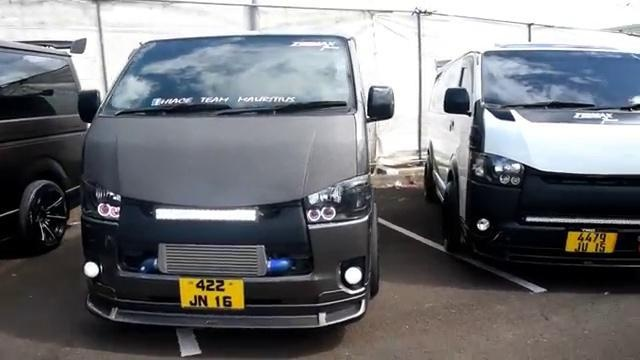van: (78, 30, 393, 331)
